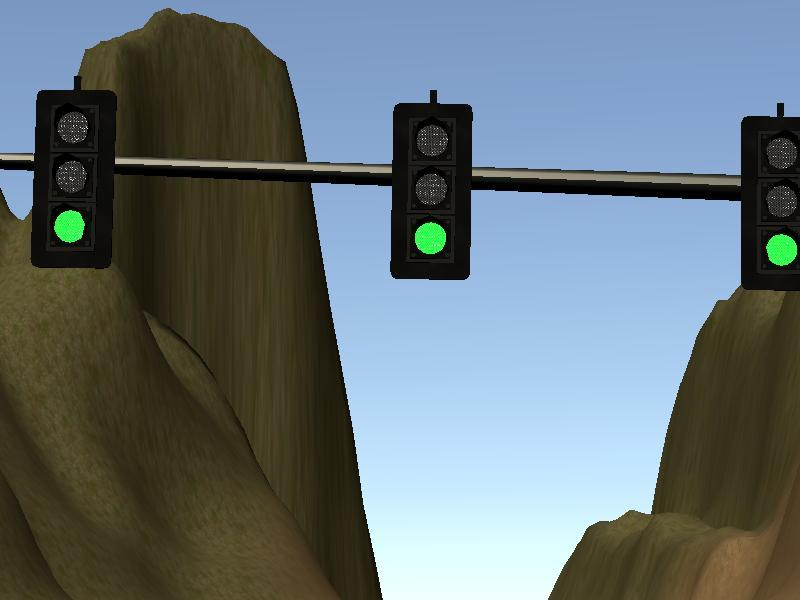Green: (390, 103, 472, 280), (35, 90, 113, 270), (741, 115, 800, 291)
